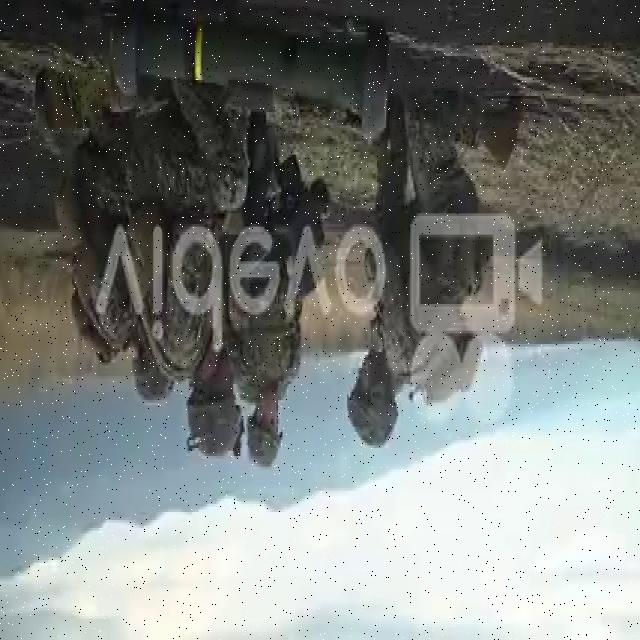bazooka: (108, 1, 396, 156)
